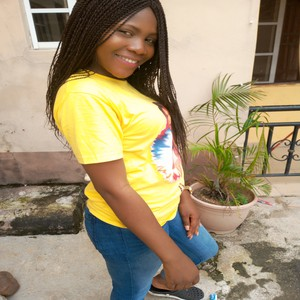Fulokoja_female_student: (76, 2, 193, 261)
